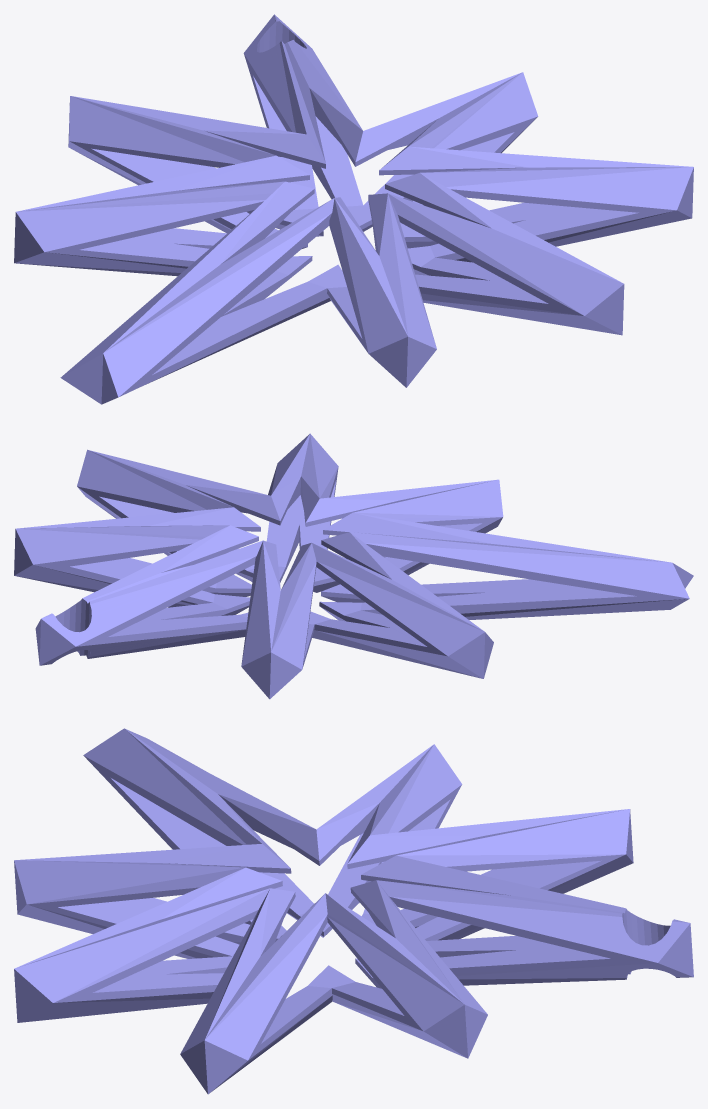
File: VioletStar.obj
The picture shows the model from 3 angles, top to bottom: view 1: azimuth 30°, elevation 25°; view 2: azimuth 150°, elevation 25°; view 3: azimuth 270°, elevation 25°; orthographic projection. The views are drawn at different scales.
Visible parts, largest first — view 1: polySurface1 star_34_02__main_50_60mm_BIGGER_HOLE_mar2014__1_; view 2: polySurface1 star_34_02__main_50_60mm_BIGGER_HOLE_mar2014__1_; view 3: polySurface1 star_34_02__main_50_60mm_BIGGER_HOLE_mar2014__1_.
Part boxes in pixels (x1,y1,x2,y2): polySurface1 star_34_02__main_50_60mm_BIGGER_HOLE_mar2014__1_: (14, 14, 693, 404); polySurface1 star_34_02__main_50_60mm_BIGGER_HOLE_mar2014__1_: (14, 433, 693, 699); polySurface1 star_34_02__main_50_60mm_BIGGER_HOLE_mar2014__1_: (14, 728, 693, 1094).
Size of the model in its own units: 4.55 by 0.7432 by 3.94.
